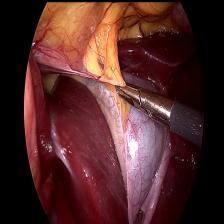Grasper: (113, 74, 176, 132)
